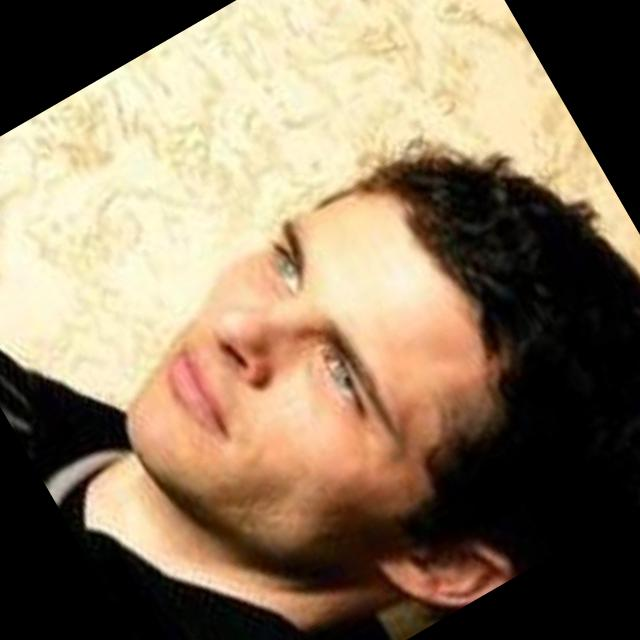bareface: (73, 74, 640, 640)
